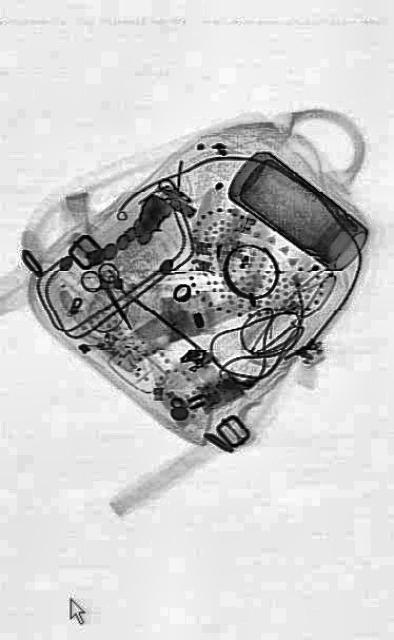Scissors: (77, 243, 143, 344)
